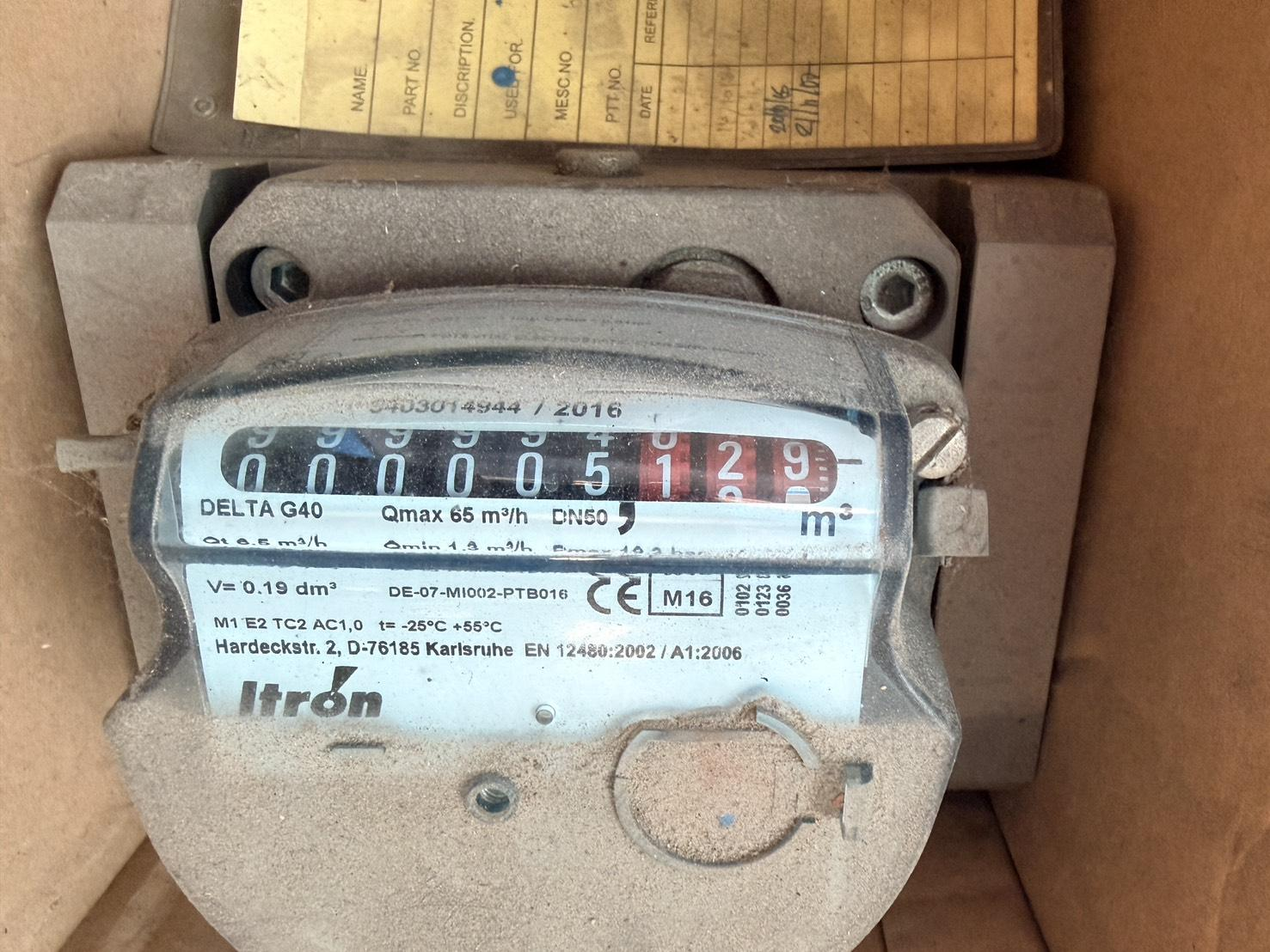analog_dial: (216, 420, 865, 513)
